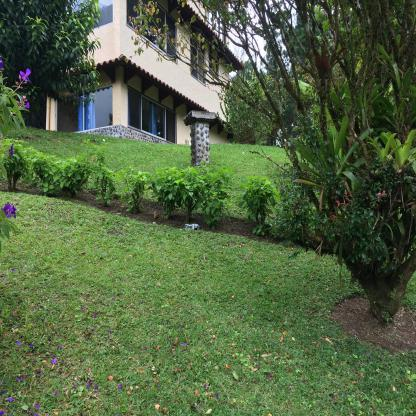plastic: (184, 223, 202, 230)
